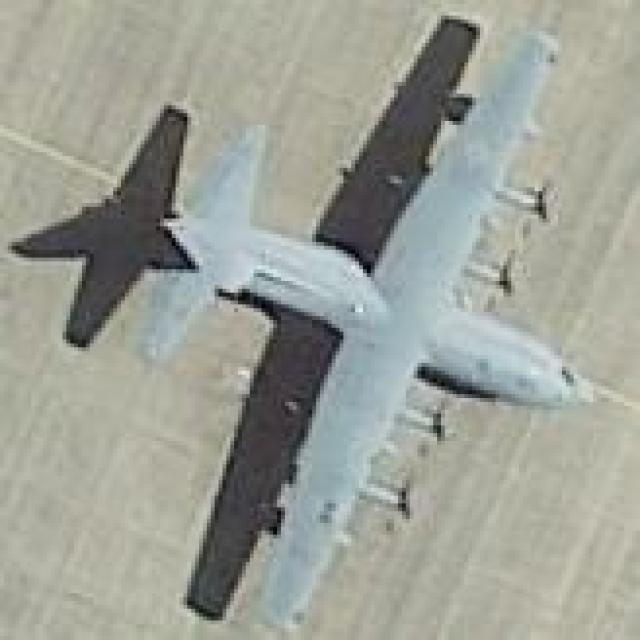C-130_TopDown: (1, 13, 597, 637)
